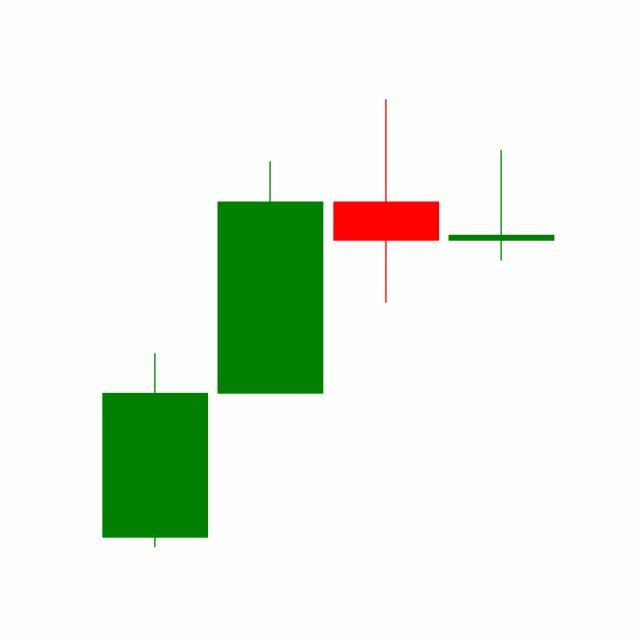Spinning Top: (444, 149, 560, 262)
